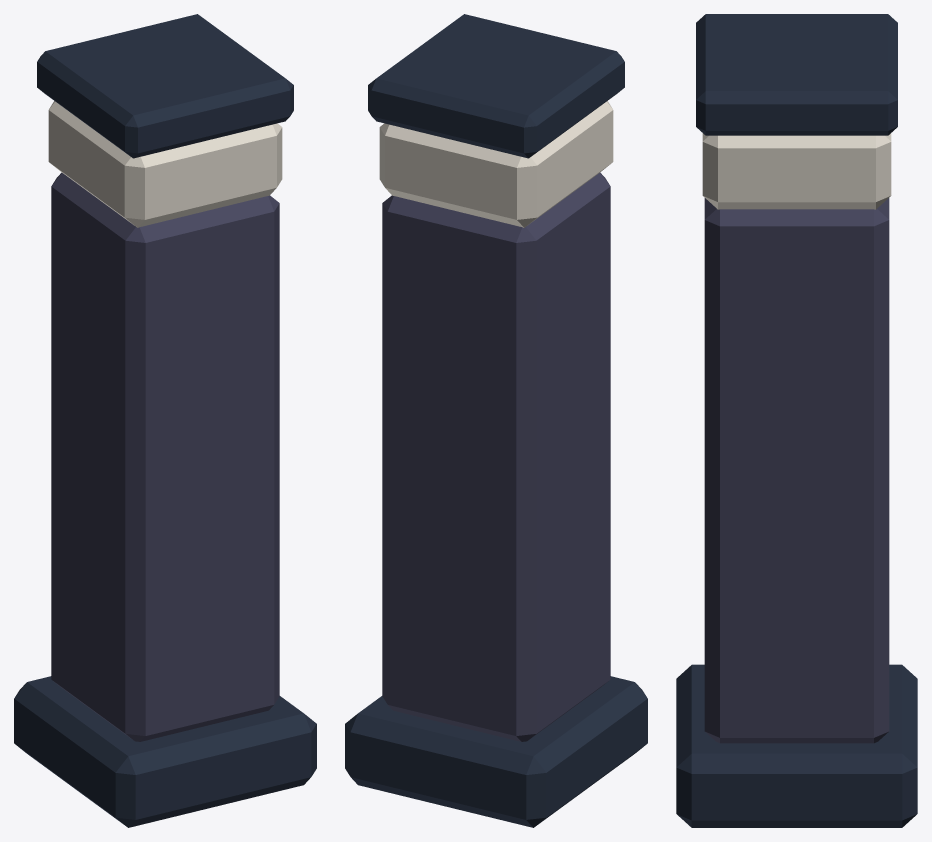
The model's file is illuminated-bollard.glb.
The picture shows the model from 3 angles, left to right: view 1: azimuth 30°, elevation 25°; view 2: azimuth 150°, elevation 25°; view 3: azimuth 270°, elevation 25°; orthographic projection. The views are drawn at different scales.
Parts seen in each view (by area): view 1: Post, Foot, Cap, Diffuser; view 2: Post, Foot, Cap, Diffuser; view 3: Post, Foot, Cap, Diffuser.
Boxes of the visible parts, left/top/right/bottom form: Post: left=51, top=172, right=279, bottom=741; Foot: left=14, top=676, right=316, bottom=827; Cap: left=37, top=14, right=293, bottom=158; Diffuser: left=48, top=101, right=282, bottom=227; Post: left=382, top=172, right=610, bottom=741; Foot: left=345, top=676, right=647, bottom=827; Cap: left=368, top=14, right=624, bottom=158; Diffuser: left=379, top=101, right=613, bottom=227; Post: left=704, top=198, right=889, bottom=743; Foot: left=676, top=664, right=917, bottom=827; Cap: left=696, top=14, right=897, bottom=135; Diffuser: left=702, top=133, right=891, bottom=209.
Bounding box in the file's own units: 0.235 × 0.786 × 0.235.
Materials: 2 (2 with a texture image).
